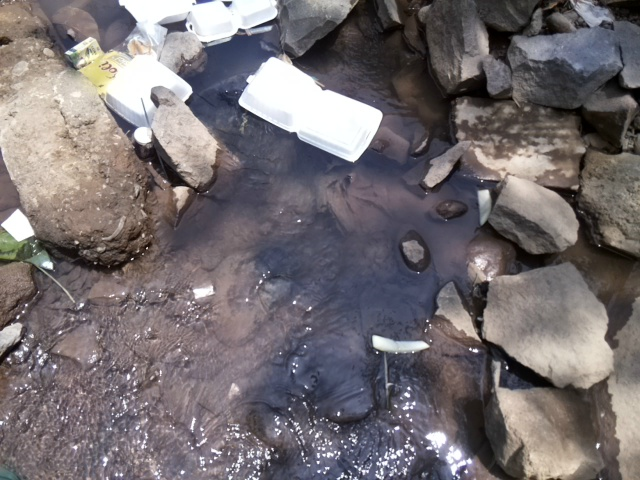Sampah_Styrofoam: (243, 57, 387, 164), (95, 54, 192, 131), (118, 1, 281, 43)
